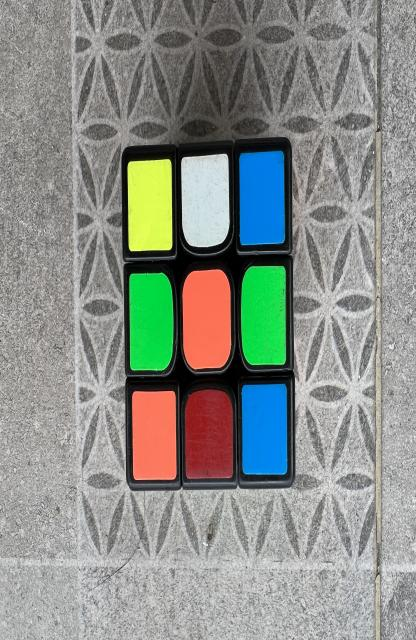Blue: (241, 383, 288, 475), (240, 150, 285, 245)
Green: (241, 267, 286, 365), (129, 273, 174, 370)
Orange: (182, 270, 232, 370), (132, 390, 176, 480)
Red: (185, 388, 233, 478)
White: (181, 153, 230, 247)
Yellow: (128, 158, 172, 252)
